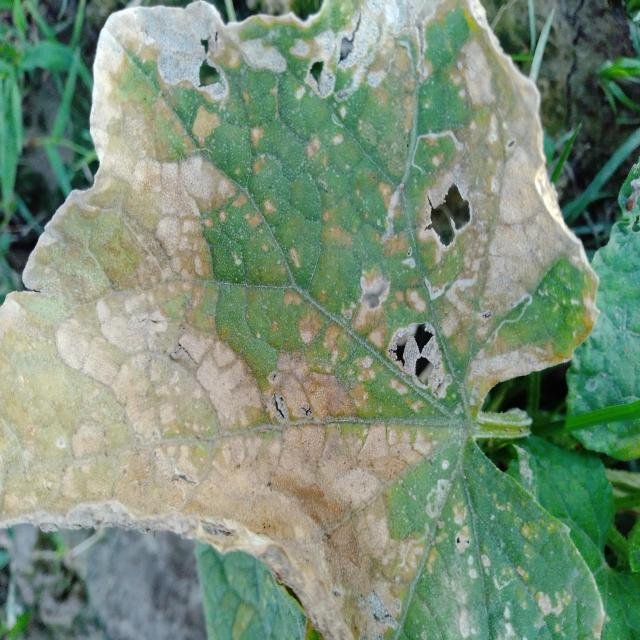cucumber_anthracnose: (81, 18, 576, 512), (198, 520, 610, 631)
